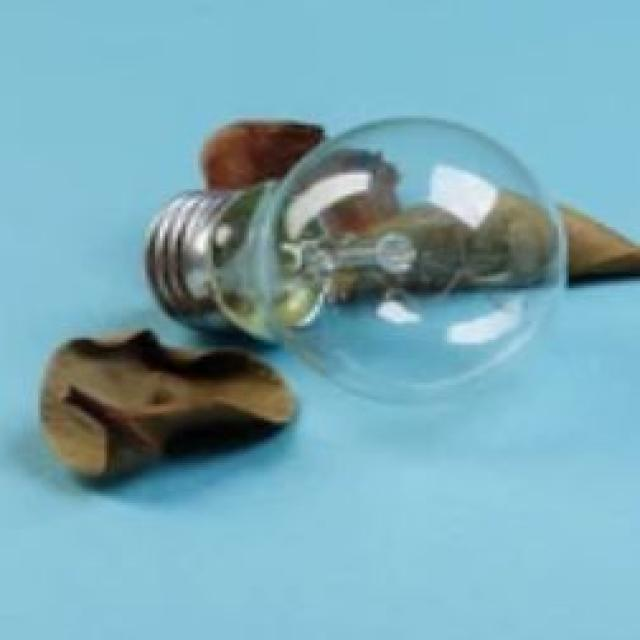electronic: (142, 111, 569, 401)
